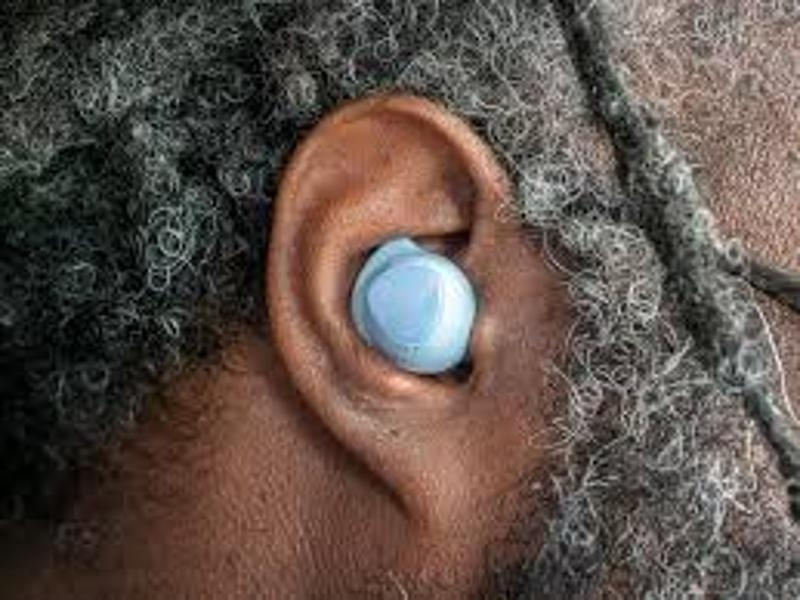headphone: (347, 237, 481, 376)
